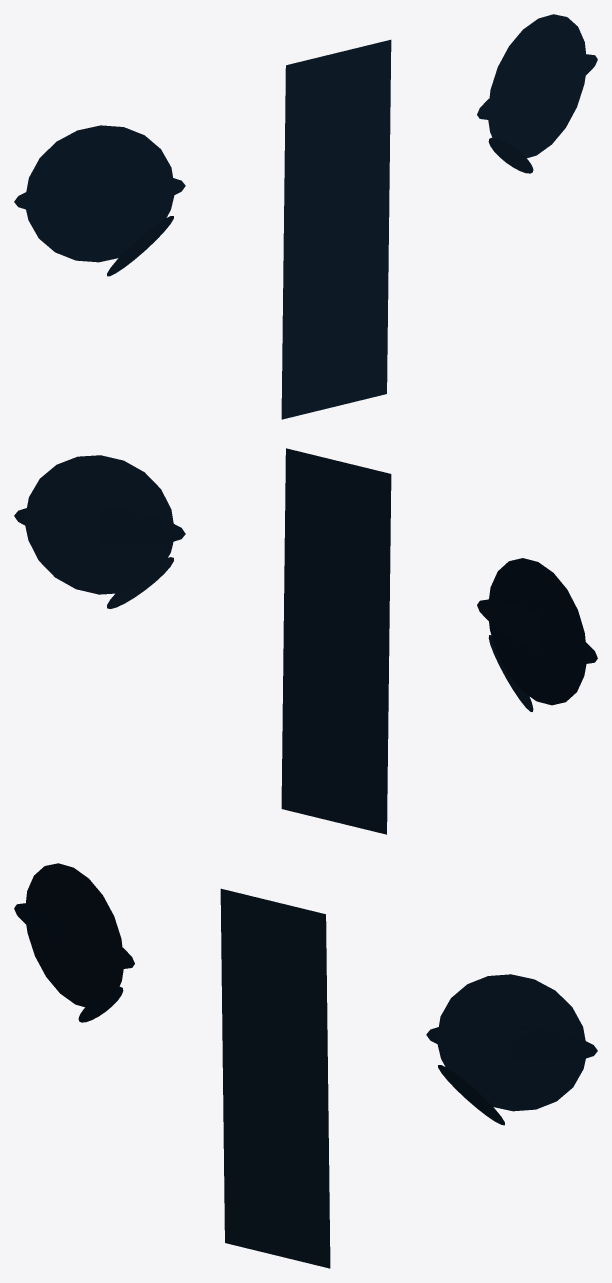
Rendered from mesh_allFaces.fbx.
3 renders of one model, top to bottom at view 1: azimuth 30°, elevation 25°; view 2: azimuth 150°, elevation 25°; view 3: azimuth 330°, elevation 25°, orthographic.
Parts seen in each view (by area): view 1: mesh_face_01, mesh_face_03, mesh_face_02; view 2: mesh_face_01, mesh_face_03, mesh_face_02; view 3: mesh_face_03, mesh_face_01, mesh_face_02.
Boxes of the visible parts, <box> form: mesh_face_01: <box>26,14,585,413</box>; mesh_face_03: <box>26,39,585,419</box>; mesh_face_02: <box>14,54,597,354</box>; mesh_face_01: <box>25,454,586,828</box>; mesh_face_03: <box>25,448,586,834</box>; mesh_face_02: <box>14,485,597,761</box>; mesh_face_03: <box>26,888,585,1268</box>; mesh_face_01: <box>26,863,585,1255</box>; mesh_face_02: <box>14,903,597,1198</box>.
Bounding box in the file's own units: 3.69 × 2.16 × 0.357.
